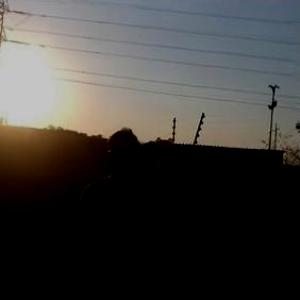follow: (66, 122, 162, 299)
